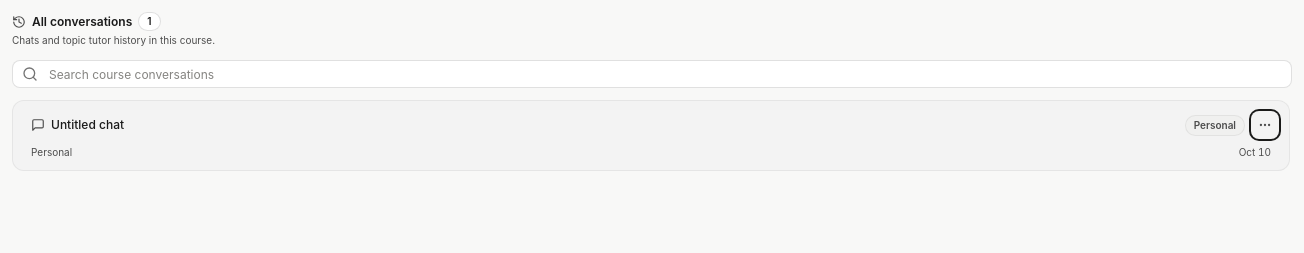
StudioChatDirectory (LSI-018) › renames a conversation and preserves the persisted title after refresh
This screenshot has width=1304, height=253.
Expected: the text "Untitled chat" is shown, [51, 117, 124, 133]
Press Arrowdown
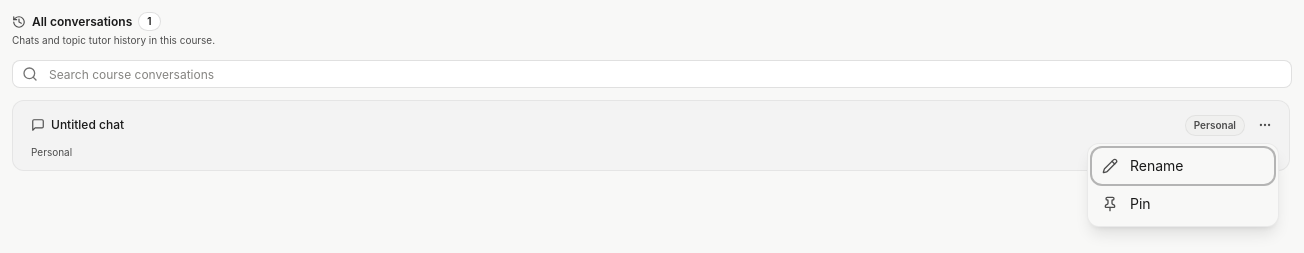
Press Enter
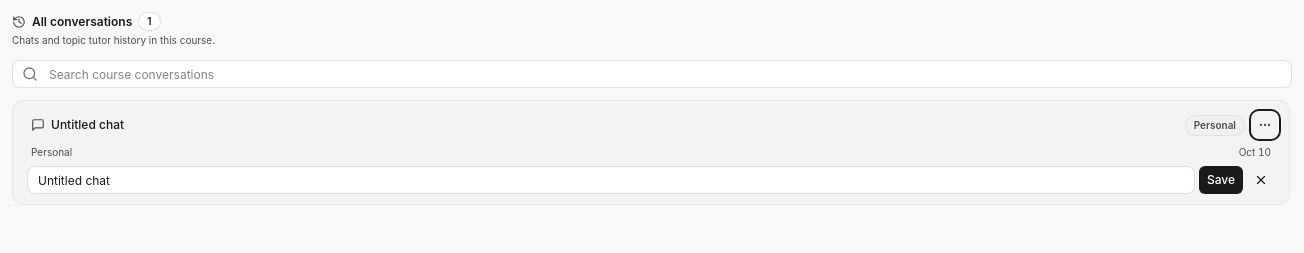
Replace the text in the field named "Chat title" with "Course foundations" at x=611, y=180, box [27, 166, 1195, 194]
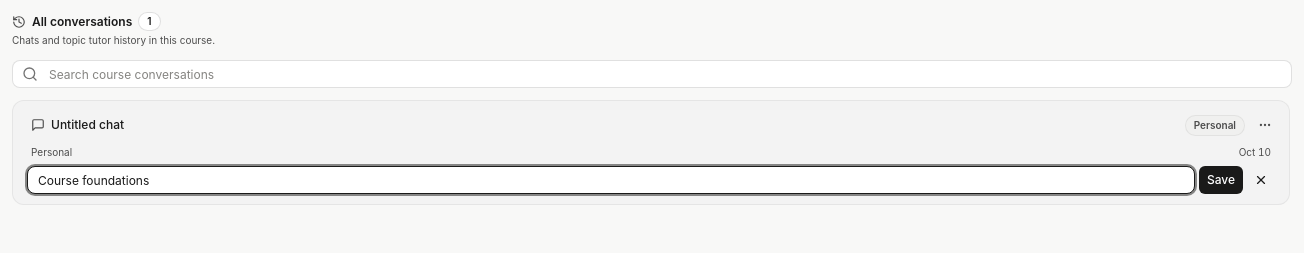
Click the button with aria-label "Save chat title".
click(1221, 180)  # box [1199, 166, 1243, 194]
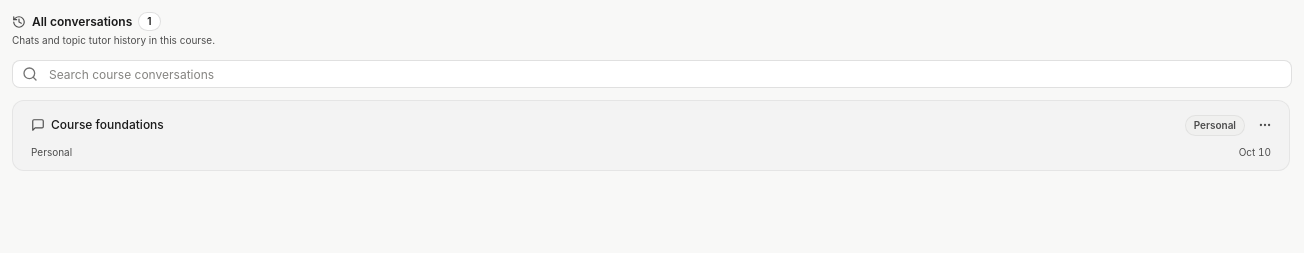
Expected: the text "Course foundations" is shown, [51, 117, 164, 133]
